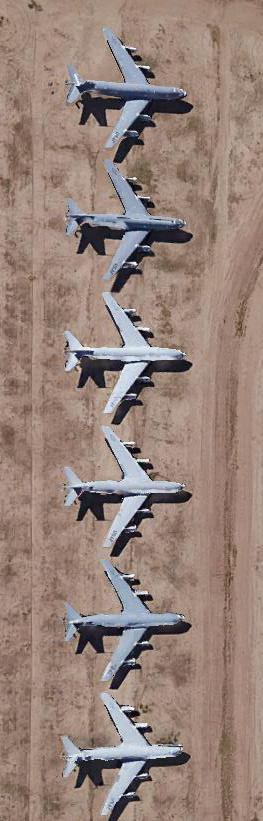KC-135: (62, 424, 188, 548), (58, 699, 188, 817), (64, 294, 191, 414), (63, 564, 190, 684), (66, 33, 193, 148), (62, 168, 192, 277)
